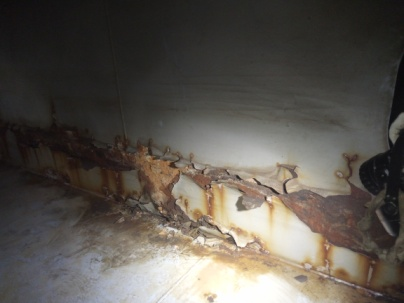corrosion: (276, 160, 386, 259), (90, 193, 236, 257), (5, 122, 111, 187), (173, 156, 276, 214), (121, 144, 180, 205), (237, 233, 271, 263), (323, 266, 357, 287)
